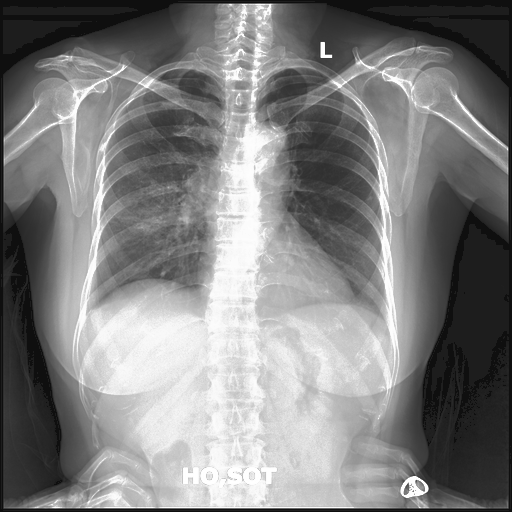Cardiomegaly: (125, 148, 185, 245)
Consolidation: (253, 121, 288, 181)
ILD: (121, 165, 180, 249)
Other lesion: (368, 196, 373, 201)
